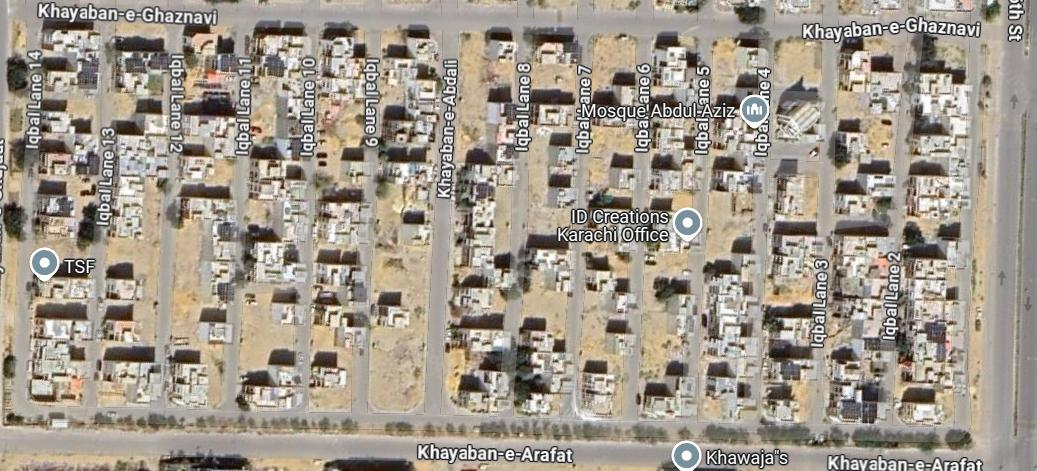Buildings: (31, 19, 230, 408), (237, 32, 436, 408), (446, 28, 632, 416), (641, 38, 821, 421), (825, 34, 967, 428)
